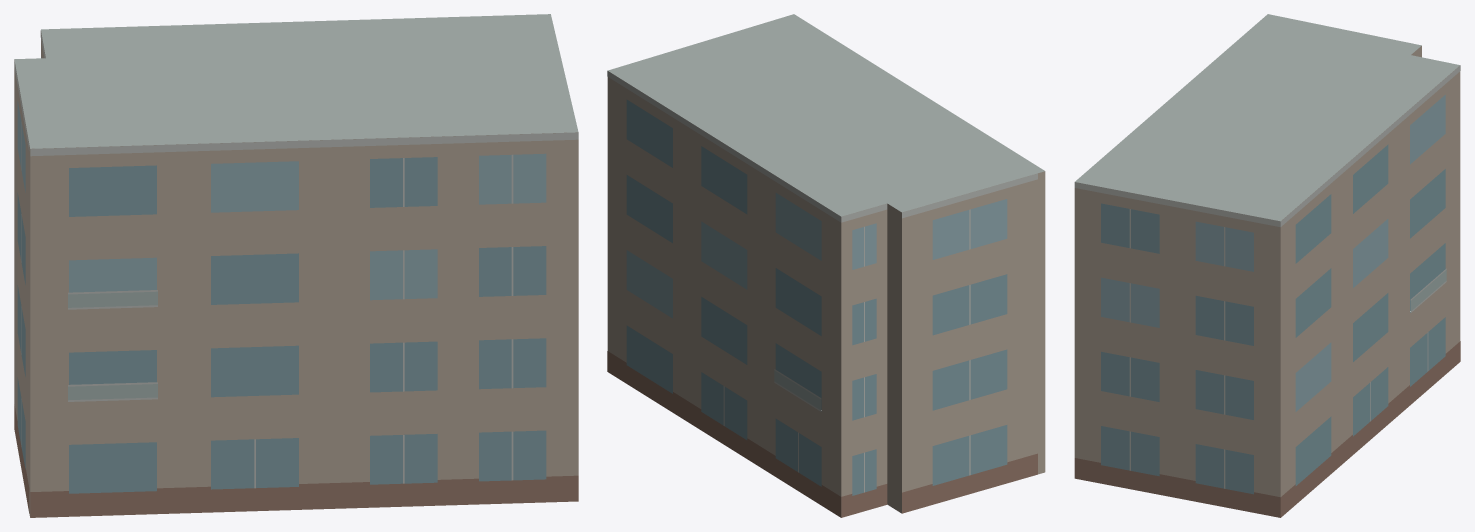
The model's file is survey-upis-32756809.glb.
3 renders of one model, left to right at view 1: azimuth 30°, elevation 25°; view 2: azimuth 150°, elevation 25°; view 3: azimuth 270°, elevation 25°, orthographic. The views are drawn at different scales.
Visible parts, largest first — view 1: survey-upis-32756809.tmp; view 2: survey-upis-32756809.tmp; view 3: survey-upis-32756809.tmp.
Part boxes in pixels (box(x1,y1,x2,y2)): survey-upis-32756809.tmp: box(14, 14, 578, 517); survey-upis-32756809.tmp: box(607, 14, 1045, 517); survey-upis-32756809.tmp: box(1074, 14, 1460, 517).
Bounding box in the file's own units: 18.3 × 12.2 × 14.39.
